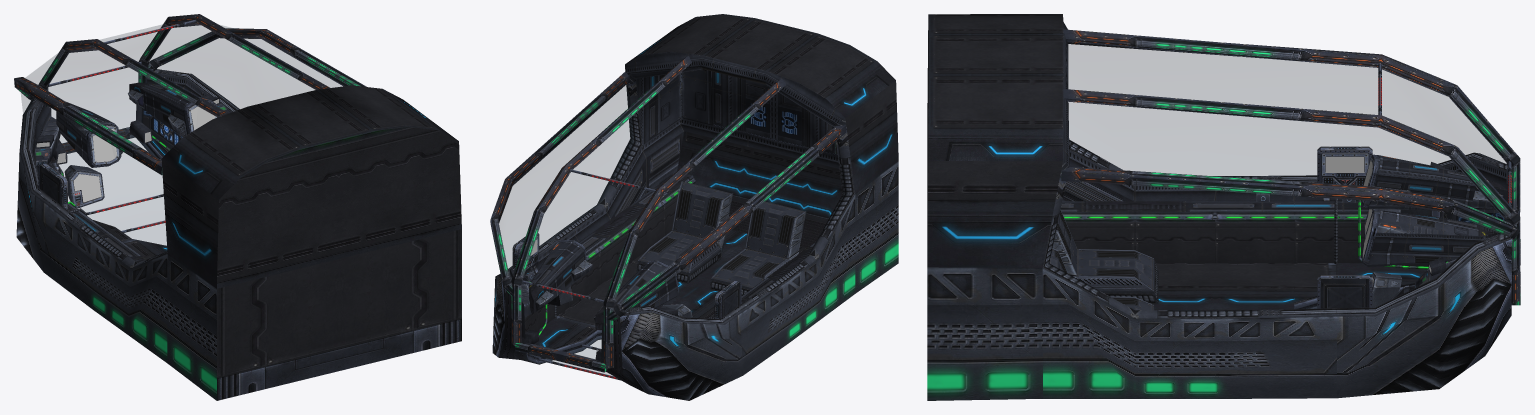
The model's file is cockpit.obj.
3 renders of one model, left to right at view 1: azimuth 30°, elevation 25°; view 2: azimuth 150°, elevation 25°; view 3: azimuth 270°, elevation 25°, orthographic. The views are drawn at different scales.
Parts seen in each view (by area): view 1: body, glass, display_02, display_01, display_05, display_03, screen_03, screen_01; view 2: body, glass, chair_02, chair_01, display_02, display_01, display_05, display_06; view 3: body, glass, display_02, chair_02, display_01, display_06, display_05, display_04, screen_05, chair_01.
Boxes of the visible parts, x1=… form: body: x1=14, y1=14, x2=461, y2=400; glass: x1=21, y1=24, x2=342, y2=245; display_02: x1=128, y1=82, x2=217, y2=137; display_01: x1=56, y1=102, x2=122, y2=167; display_05: x1=38, y1=163, x2=67, y2=209; display_03: x1=64, y1=165, x2=104, y2=208; screen_03: x1=73, y1=174, x2=101, y2=202; screen_01: x1=93, y1=129, x2=116, y2=162; body: x1=490, y1=14, x2=898, y2=400; glass: x1=499, y1=84, x2=633, y2=375; chair_02: x1=709, y1=201, x2=806, y2=295; chair_01: x1=636, y1=181, x2=733, y2=283; display_02: x1=529, y1=240, x2=592, y2=314; display_01: x1=594, y1=260, x2=679, y2=330; display_05: x1=714, y1=281, x2=741, y2=318; display_06: x1=512, y1=233, x2=539, y2=271; body: x1=927, y1=14, x2=1520, y2=400; glass: x1=1068, y1=44, x2=1506, y2=308; display_02: x1=1362, y1=210, x2=1499, y2=266; chair_02: x1=1052, y1=209, x2=1158, y2=304; display_01: x1=1362, y1=154, x2=1507, y2=209; display_06: x1=1317, y1=275, x2=1372, y2=308; display_05: x1=1317, y1=146, x2=1372, y2=185; display_04: x1=1372, y1=272, x2=1401, y2=307; screen_05: x1=1325, y1=157, x2=1364, y2=172; chair_01: x1=1049, y1=248, x2=1155, y2=310.
Size of the model in its own units: 3.87 by 3.42 by 6.69.
